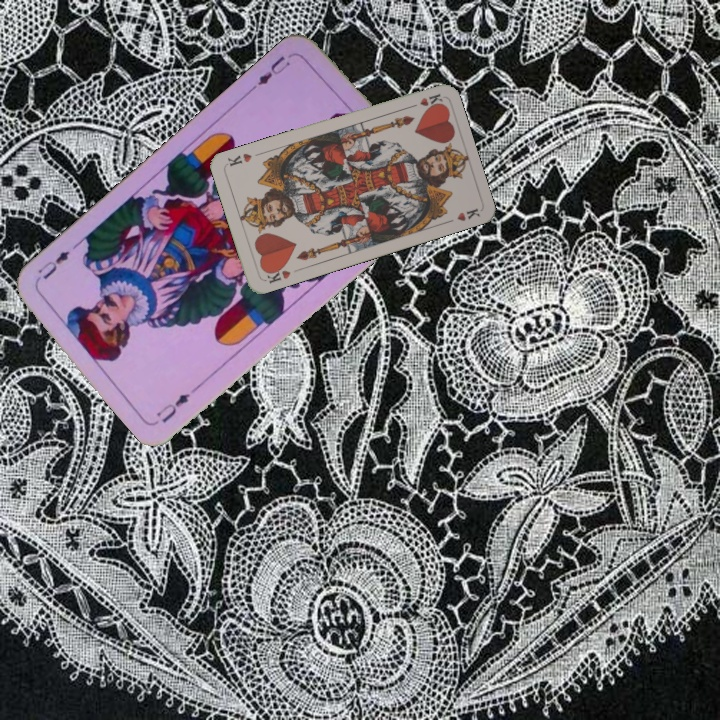EU: (151, 380, 202, 426), (248, 52, 293, 92)
HK: (404, 90, 445, 111), (261, 262, 293, 286)
